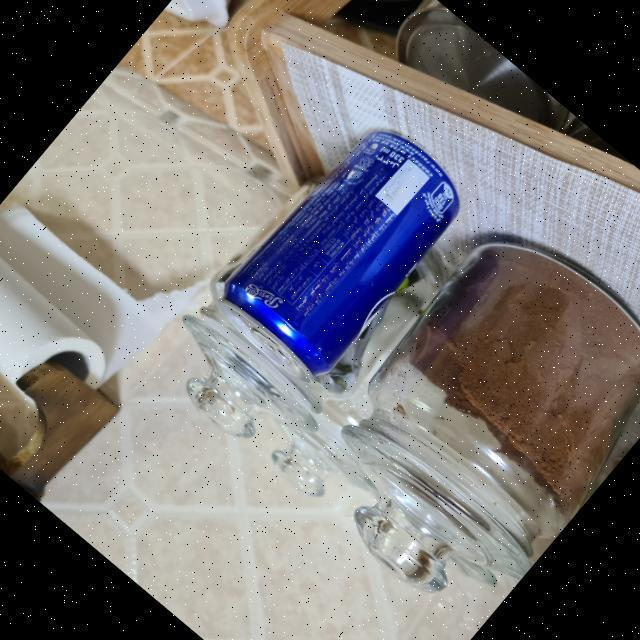can: (200, 105, 487, 403)
